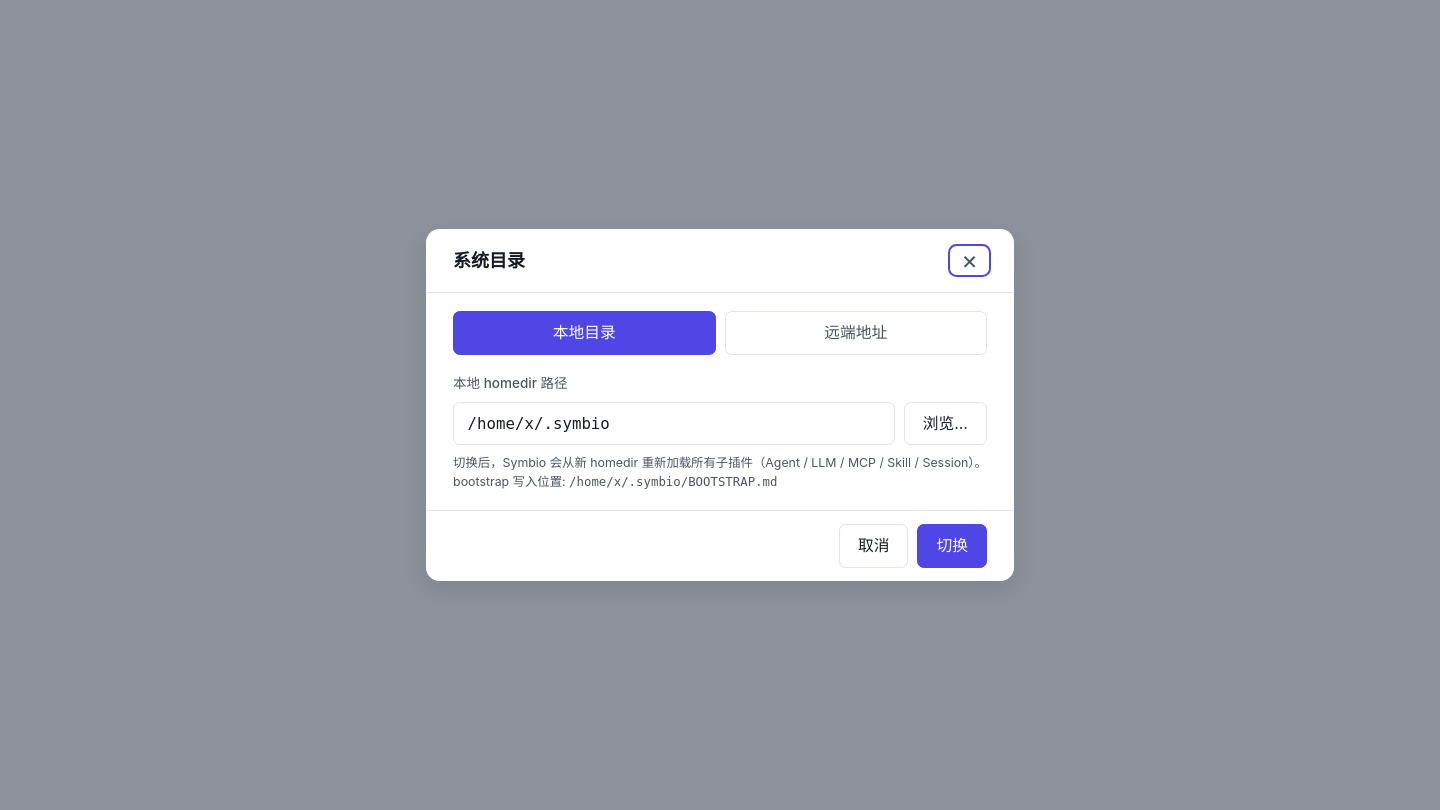
Scenario: HomedirSwitcher — 浏览本地目录 › 选中后填入路径
Step 1. Click the button "浏览…" → (945, 424), box [904, 402, 987, 445]
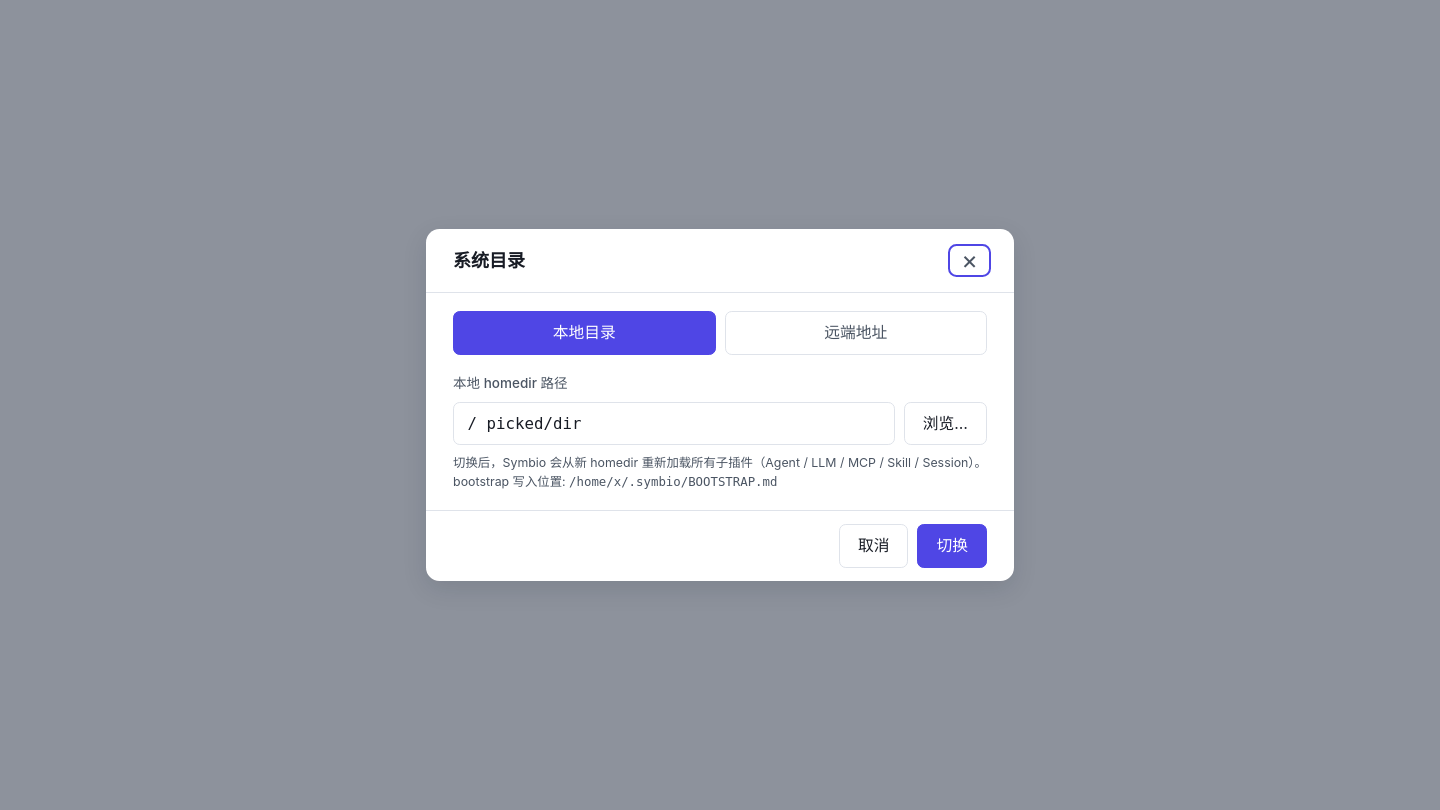
Result: the field with id "sysdir-input" holds "/ picked/dir" at [453, 402, 895, 445]
